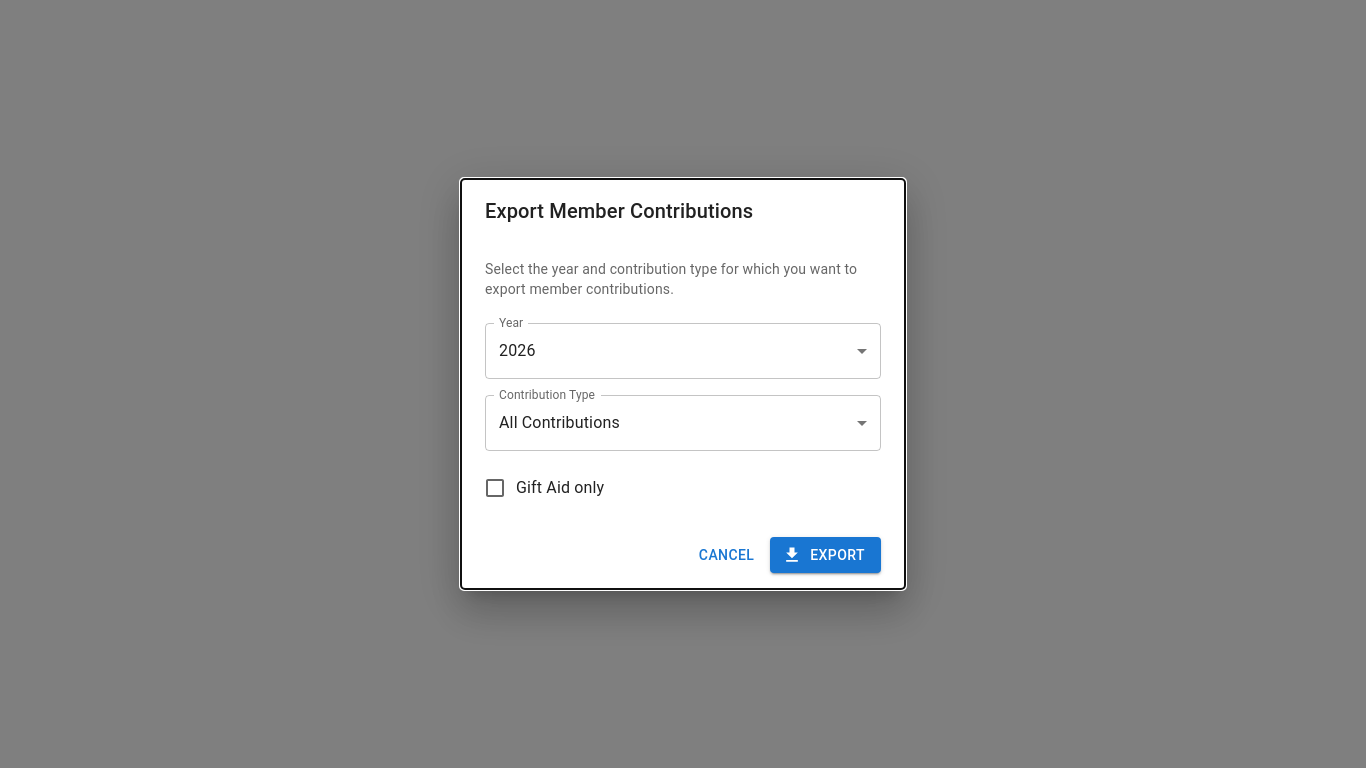
it: YearSelectionModal › shows contribution type options
Press the mouse on the dropdown named "contribution type" at (559, 423), box [499, 413, 620, 432]
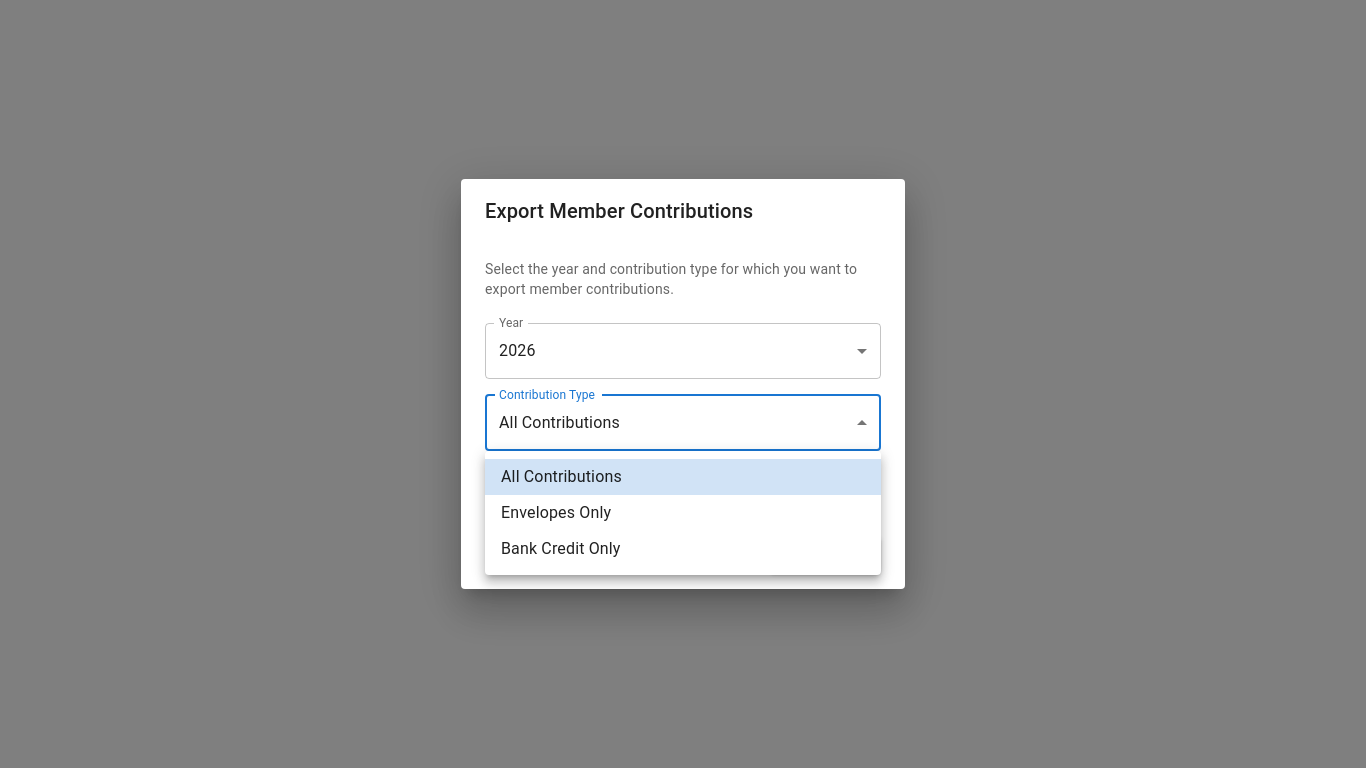
Expected: the option "All Contributions" is shown, [485, 459, 881, 495]
Expected: the option "Envelopes Only" is shown, [501, 503, 611, 522]
Expected: the option "Bank Credit Only" is shown, [501, 539, 621, 558]
